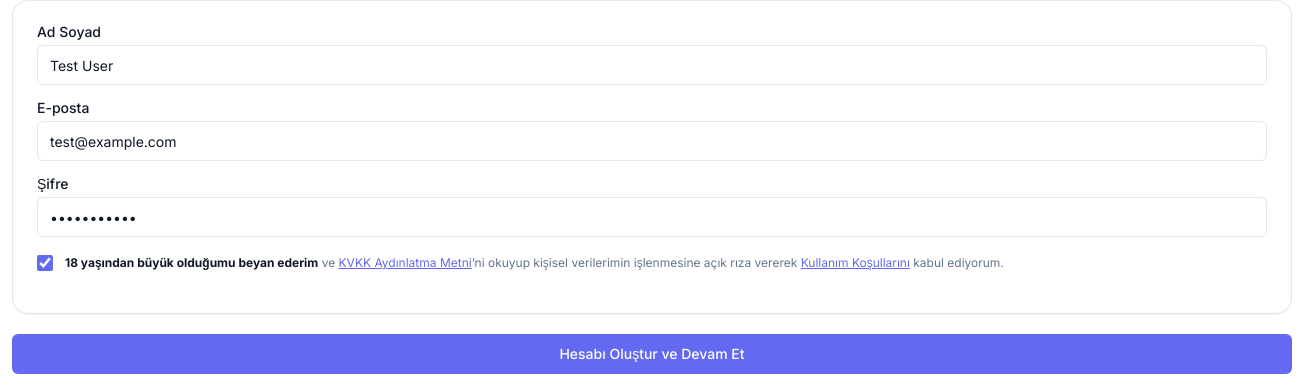
Test case: Step4Account — GV-12 oturumsuz başvuru yanıtı › tenant: null → yükleniyor biter, "e-postanızı kontrol edin" ekranı görünür
The width and height of the screenshot is (1304, 391).
Click the button "Hesabı Oluştur ve Devam Et" at (652, 354), box [12,334,1292,374]
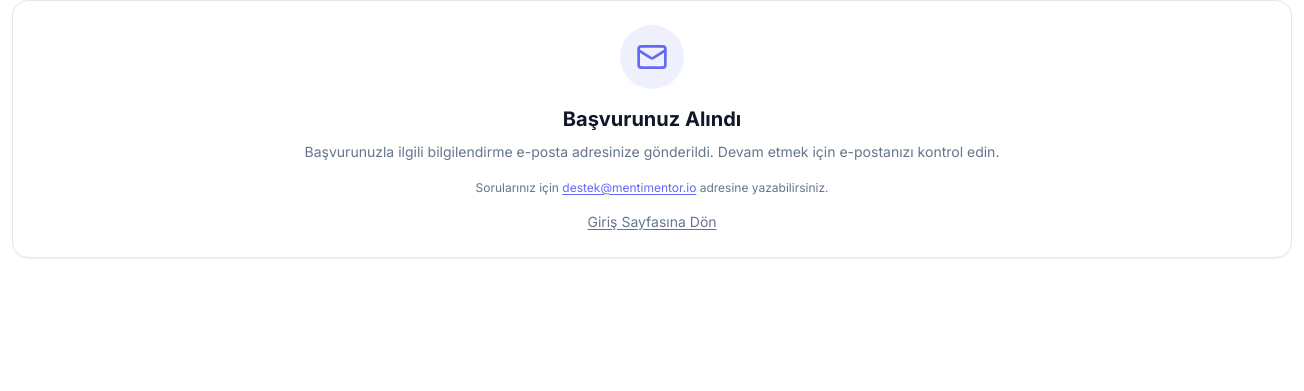
Check: the text "e-postanızı kontrol edin" is shown, box [305,143,1000,160]
Check: the heading "Başvurunuz Alındı" is shown, box [563,107,741,131]
Check: the button "Hesabı Oluştur" is gone
